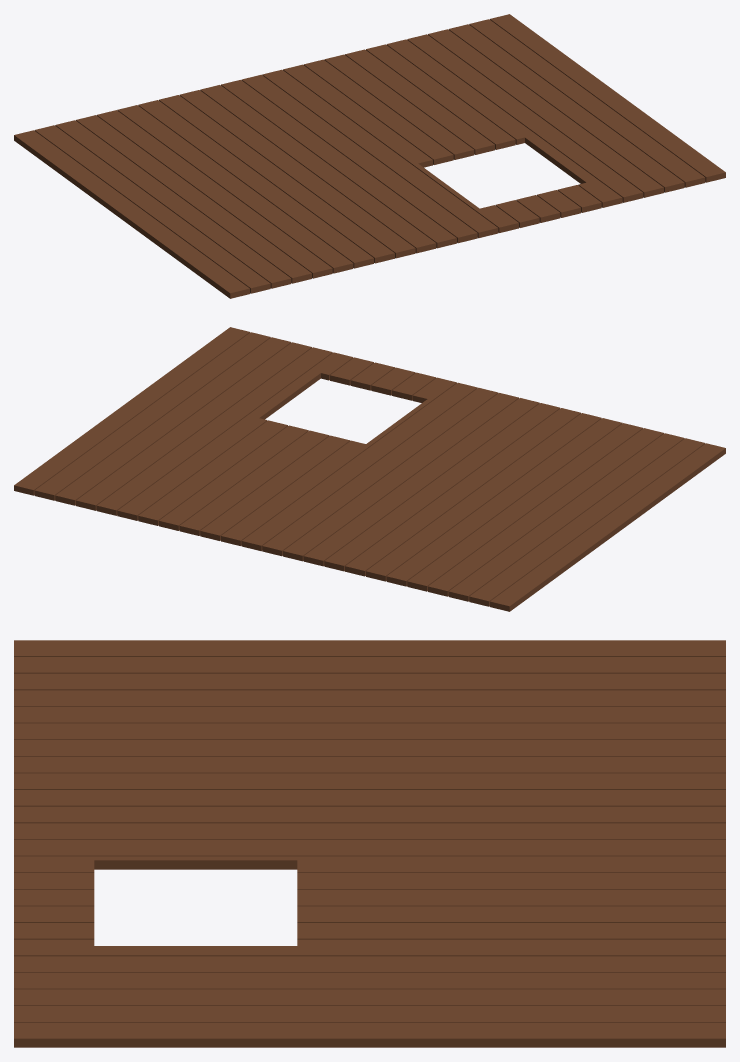
Rendered from DosemeTahtalari.fbx.
3 renders of one model, top to bottom at view 1: azimuth 30°, elevation 25°; view 2: azimuth 150°, elevation 25°; view 3: azimuth 270°, elevation 25°, orthographic. The views are drawn at different scales.
Visible parts, largest first — view 1: TahtaDöseme3, TahtaDöseme4, TahtaDöseme8, TahtaDöseme5, TahtaDöseme6; view 2: TahtaDöseme3, TahtaDöseme4, TahtaDöseme8, TahtaDöseme5, TahtaDöseme6; view 3: TahtaDöseme3, TahtaDöseme4, TahtaDöseme8, TahtaDöseme5, TahtaDöseme7, TahtaDöseme6.
Part boxes in pixels (x1=…): TahtaDöseme3: x1=14, y1=69, x2=498, y2=298; TahtaDöseme4: x1=407, y1=14, x2=725, y2=202; TahtaDöseme8: x1=283, y1=39, x2=535, y2=167; TahtaDöseme5: x1=475, y1=180, x2=622, y2=232; TahtaDöseme6: x1=525, y1=134, x2=597, y2=183; TahtaDöseme3: x1=241, y1=382, x2=725, y2=611; TahtaDöseme4: x1=14, y1=327, x2=332, y2=515; TahtaDöseme8: x1=117, y1=415, x2=370, y2=545; TahtaDöseme5: x1=309, y1=352, x2=456, y2=402; TahtaDöseme6: x1=248, y1=370, x2=320, y2=419; TahtaDöseme3: x1=14, y1=640, x2=725, y2=856; TahtaDöseme4: x1=14, y1=956, x2=725, y2=1047; TahtaDöseme8: x1=297, y1=856, x2=725, y2=956; TahtaDöseme5: x1=14, y1=856, x2=94, y2=956; TahtaDöseme7: x1=94, y1=856, x2=297, y2=869; TahtaDöseme6: x1=94, y1=946, x2=297, y2=956.
Bounding box in the file's own units: 1207 × 12.94 × 912.
